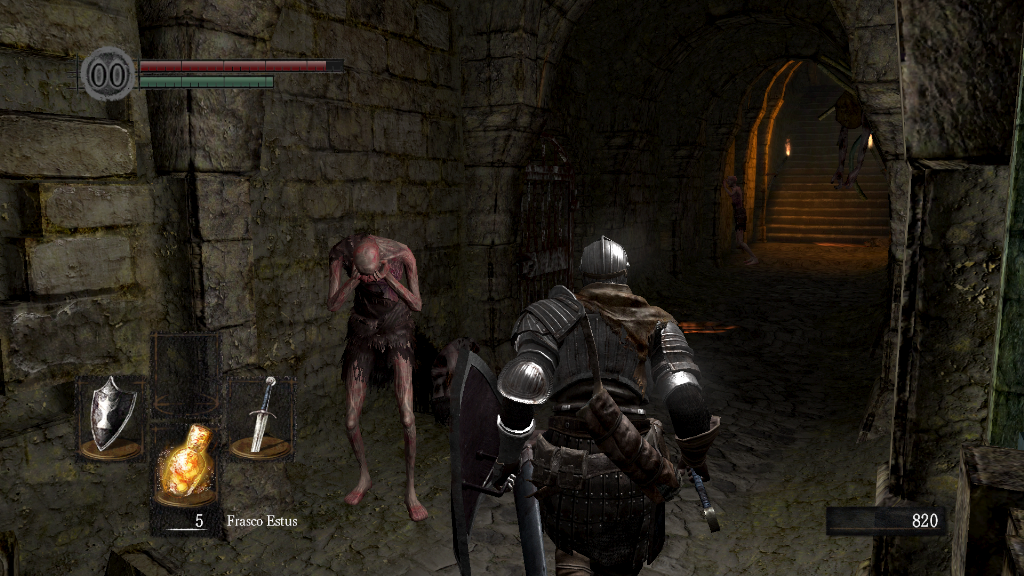health: (138, 58, 343, 71)
hollow: (329, 232, 432, 524)
humanity: (80, 45, 136, 102)
player: (450, 235, 722, 576)
souls: (825, 506, 945, 536)
stamina: (138, 74, 274, 88)
